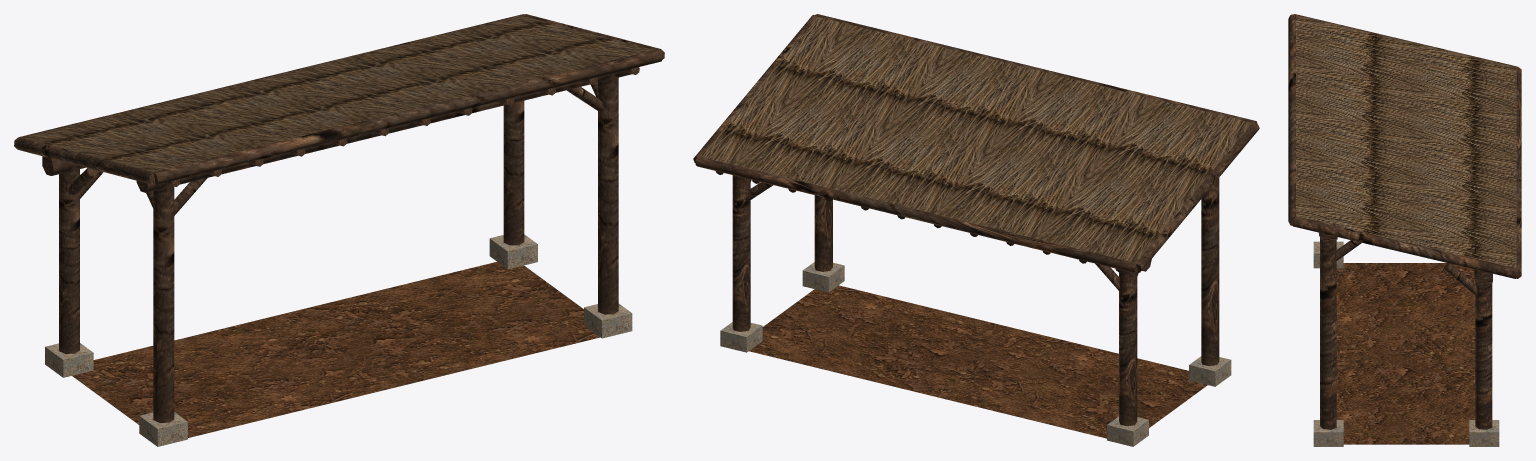
Rendered from longShelter.glb.
3 renders of one model, left to right at view 1: azimuth 30°, elevation 25°; view 2: azimuth 150°, elevation 25°; view 3: azimuth 270°, elevation 25°, orthographic. The views are drawn at different scales.
Visible parts, largest first — view 1: part_0, part_3, part_2, part_1; view 2: part_3, part_0, part_2, part_1; view 3: part_3, part_0, part_2, part_1.
Boxes of the visible parts, x1,y1,x2,y2 form: part_0: (72, 262, 600, 437); part_3: (21, 15, 654, 172); part_2: (14, 14, 664, 422); part_1: (45, 234, 632, 446); part_3: (700, 16, 1252, 262); part_0: (749, 285, 1207, 438); part_2: (693, 14, 1259, 426); part_1: (720, 262, 1231, 446); part_3: (1293, 14, 1516, 268); part_0: (1336, 263, 1475, 444); part_2: (1288, 14, 1521, 429); part_1: (1313, 241, 1499, 446).
Size of the model in its own units: 3.93 by 2.1 by 1.87.
4 materials, 4 textured.
